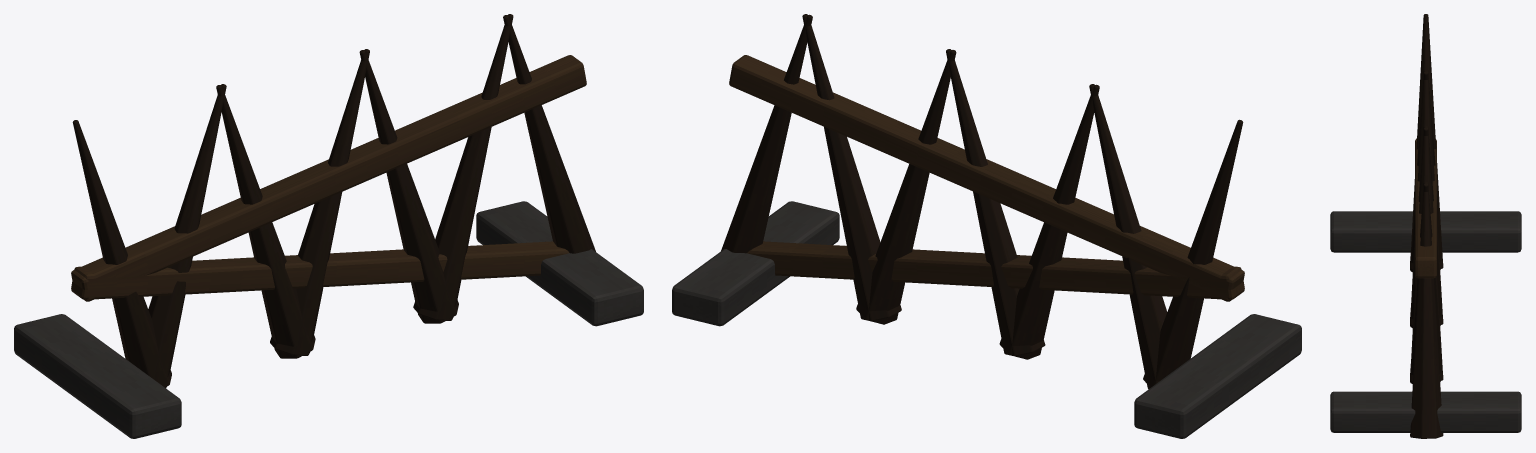
The model's file is prop_town_fortress_barricade.glb.
3 views of the same model, side by side, from view 1: azimuth 30°, elevation 25°; view 2: azimuth 150°, elevation 25°; view 3: azimuth 270°, elevation 25° (orthographic). The views are drawn at different scales.
Parts seen in each view (by area): view 1: oak, aged_oak, stone; view 2: oak, aged_oak, stone; view 3: stone, oak, aged_oak.
Part boxes in pixels (x1,y1,x2,y2): oak: [72, 14, 595, 387]; aged_oak: [71, 55, 586, 301]; stone: [14, 201, 643, 438]; oak: [721, 14, 1243, 389]; aged_oak: [729, 55, 1244, 301]; stone: [672, 201, 1301, 438]; stone: [1330, 211, 1521, 432]; oak: [1410, 14, 1443, 438]; aged_oak: [1415, 138, 1436, 284].
Size of the model in its own units: 6.63 by 3.43 by 2.6.
3 materials, 3 textured.
